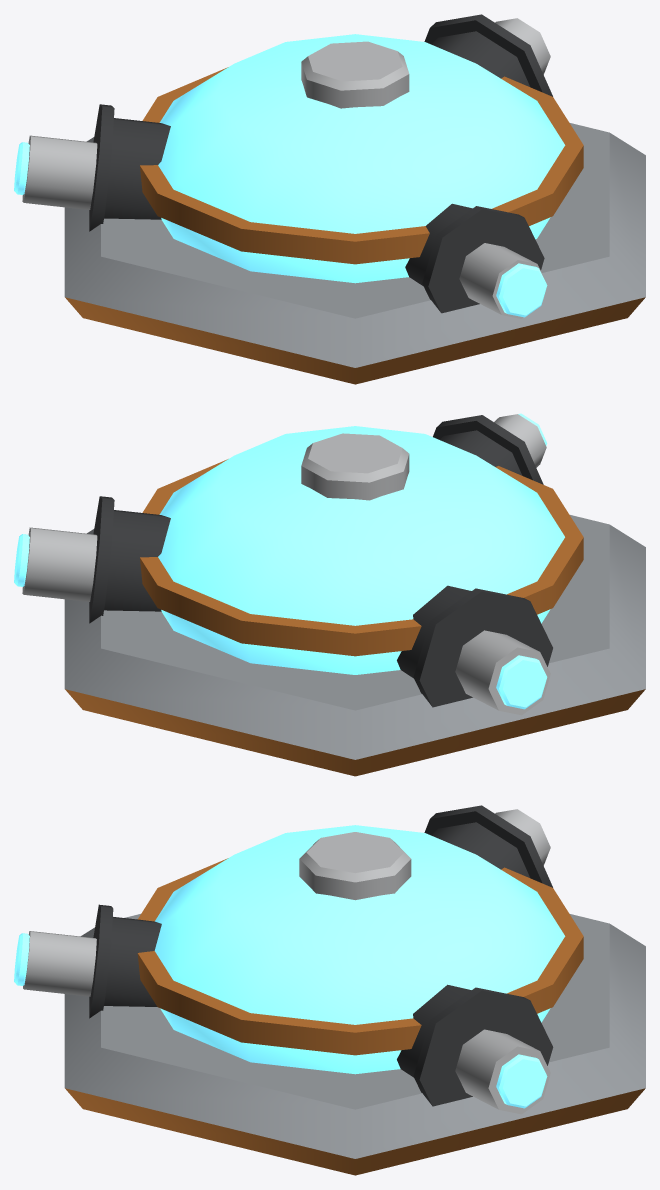
File: R4D_SlowTrap.fbx
The picture shows the model from 3 angles, top to bottom: view 1: azimuth 30°, elevation 25°; view 2: azimuth 150°, elevation 25°; view 3: azimuth 270°, elevation 25°; orthographic projection.
Visible parts, largest first — view 1: R4D_SlowTrap_Body; view 2: R4D_SlowTrap_Body; view 3: R4D_SlowTrap_Body.
Part boxes in pixels (x1,y1,x2,y2): R4D_SlowTrap_Body: (14, 14, 645, 384); R4D_SlowTrap_Body: (14, 413, 645, 776); R4D_SlowTrap_Body: (14, 805, 645, 1175).
Size of the model in its own units: 0.48 by 0.15 by 0.452.
